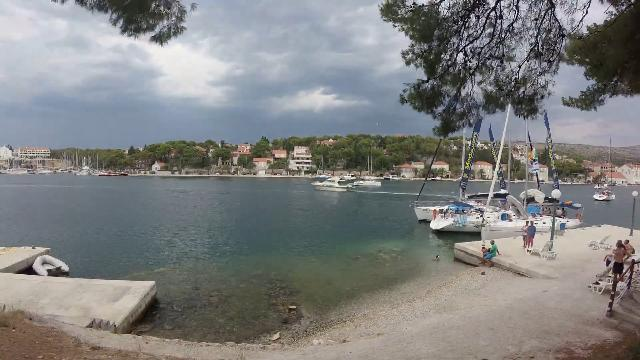Sailboat: (352, 168, 386, 190)
ferry: (308, 172, 356, 196)
